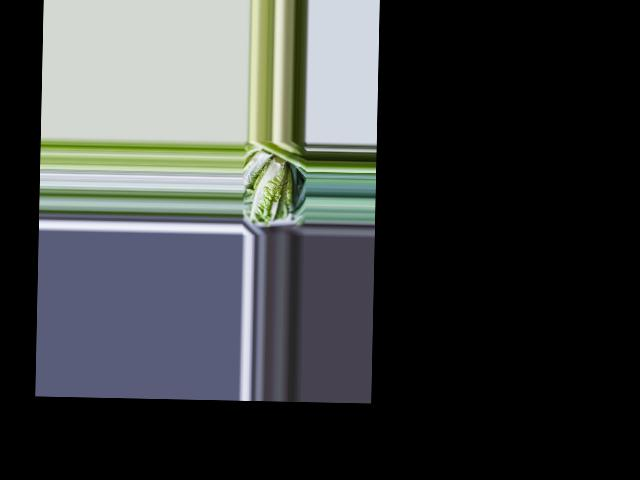lettuce: (249, 155, 293, 225)
